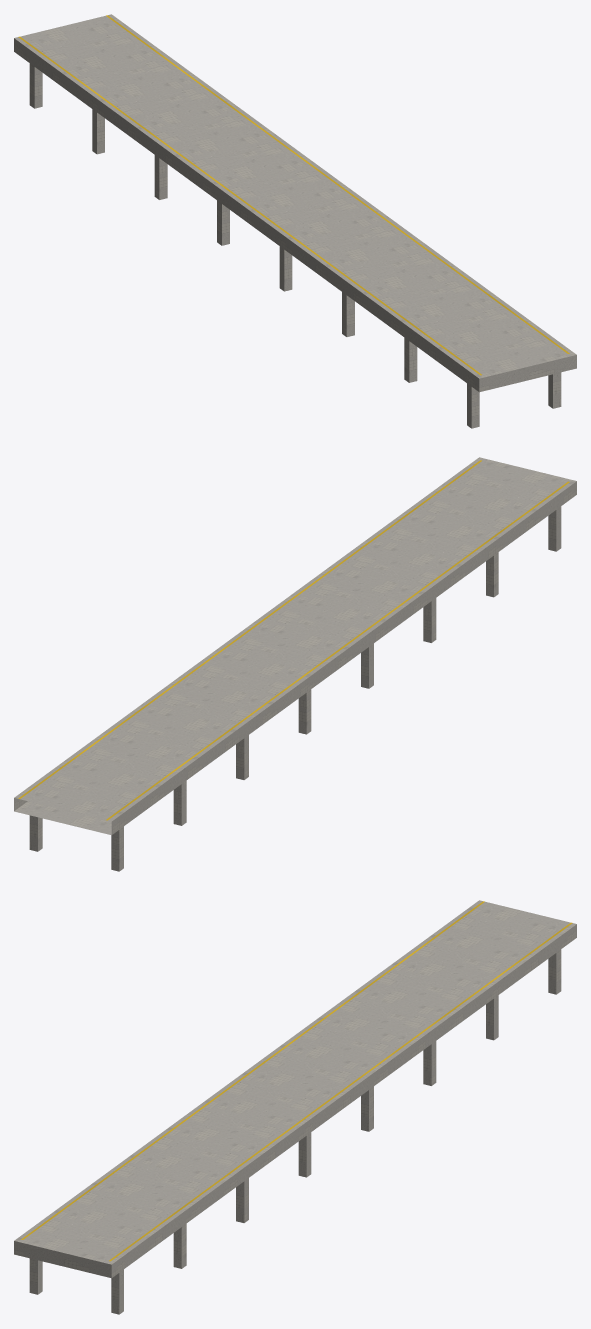
File: SM_MoloItalia_Dito_v2_LOD1.fbx
3 views of the same model, one above another, from view 1: azimuth 30°, elevation 25°; view 2: azimuth 150°, elevation 25°; view 3: azimuth 330°, elevation 25° (orthographic).
Parts seen in each view (by area): view 1: SM_MoloItalia_Dito_v2_LOD1; view 2: SM_MoloItalia_Dito_v2_LOD1; view 3: SM_MoloItalia_Dito_v2_LOD1.
Part boxes in pixels (x1,y1,x2,y2): SM_MoloItalia_Dito_v2_LOD1: (14, 14, 576, 428); SM_MoloItalia_Dito_v2_LOD1: (14, 457, 576, 871); SM_MoloItalia_Dito_v2_LOD1: (14, 900, 576, 1314).
Size of the model in its own units: 600 by 4950 by 351.
Materials: 2 (2 with a texture image).
